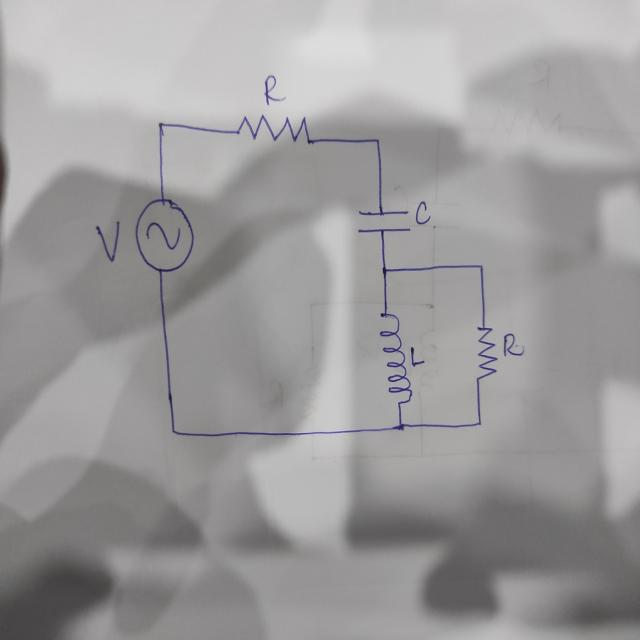capacitor: (354, 204, 412, 236)
inductor: (378, 310, 413, 407)
junction: (370, 133, 383, 148), (155, 117, 167, 133), (378, 261, 390, 276), (392, 420, 406, 432), (476, 260, 486, 272), (170, 423, 178, 436), (474, 417, 482, 428)
resistor: (234, 111, 313, 146), (475, 321, 497, 383)
source: (133, 194, 194, 274)
text: (95, 218, 121, 264), (262, 73, 288, 107), (501, 330, 527, 359), (414, 200, 432, 227), (408, 344, 426, 366)
